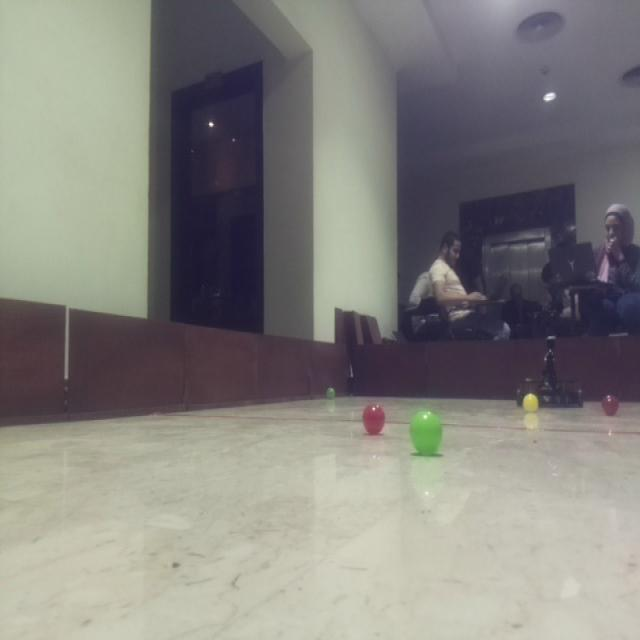ball: (405, 406, 448, 456), (359, 400, 388, 436), (518, 388, 542, 418), (600, 392, 623, 420), (322, 382, 340, 404)
